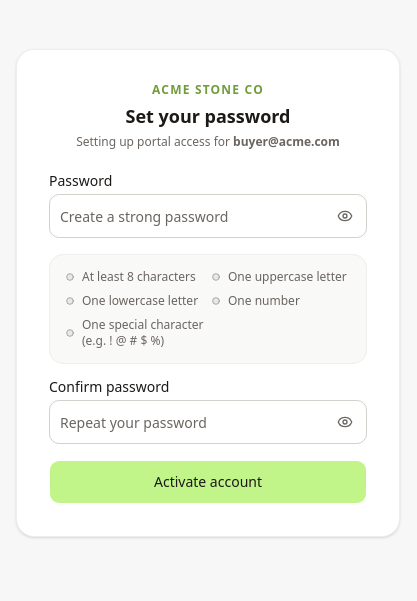
Test: AcceptInvitePage password validation › rejects a password that is no uppercase
Step 1. Type "abcdefg1!" into the password field labelled "Password" → {"x": 208, "y": 216}, box [49,194,367,238]
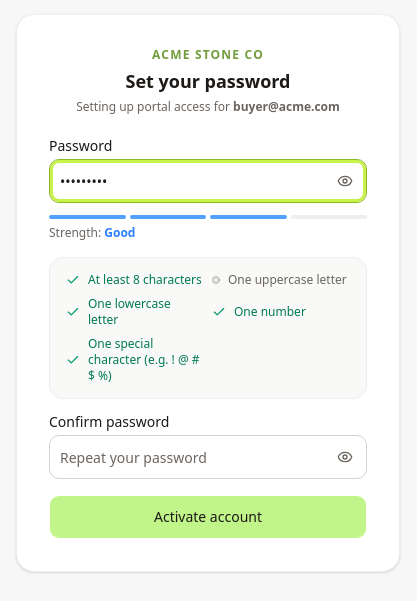
Step 2. Type "abcdefg1!" into the password field labelled "Confirm password" → {"x": 208, "y": 457}, box [49,435,367,479]
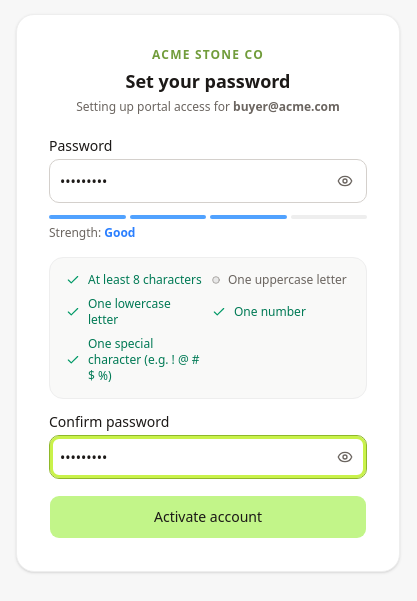
Step 3. Click the button "Activate account" → {"x": 208, "y": 517}, box [49,495,367,539]
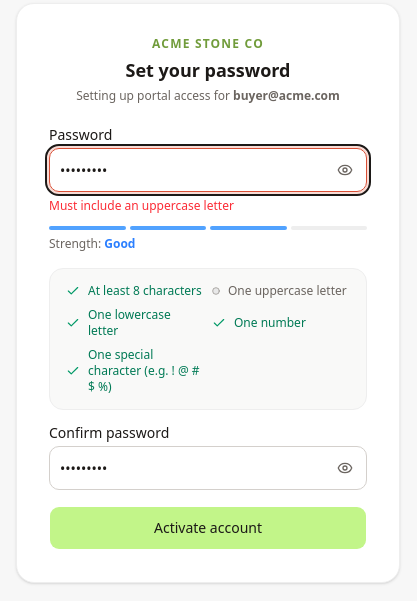
expect the text "Must include an uppercase letter" is shown: met, box [49,197,234,214]
